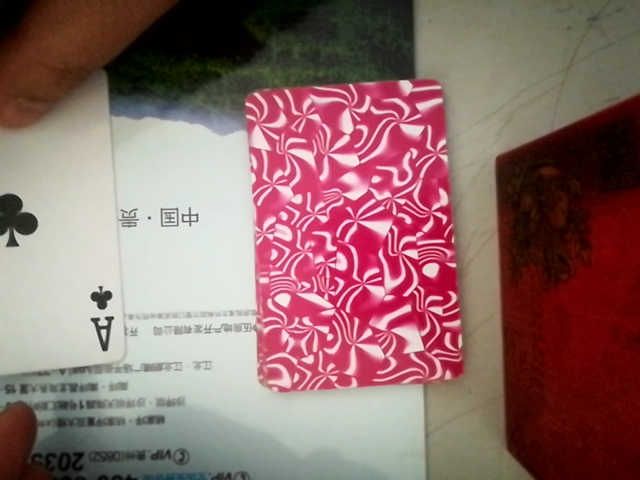mh a: (0, 42, 147, 416)
